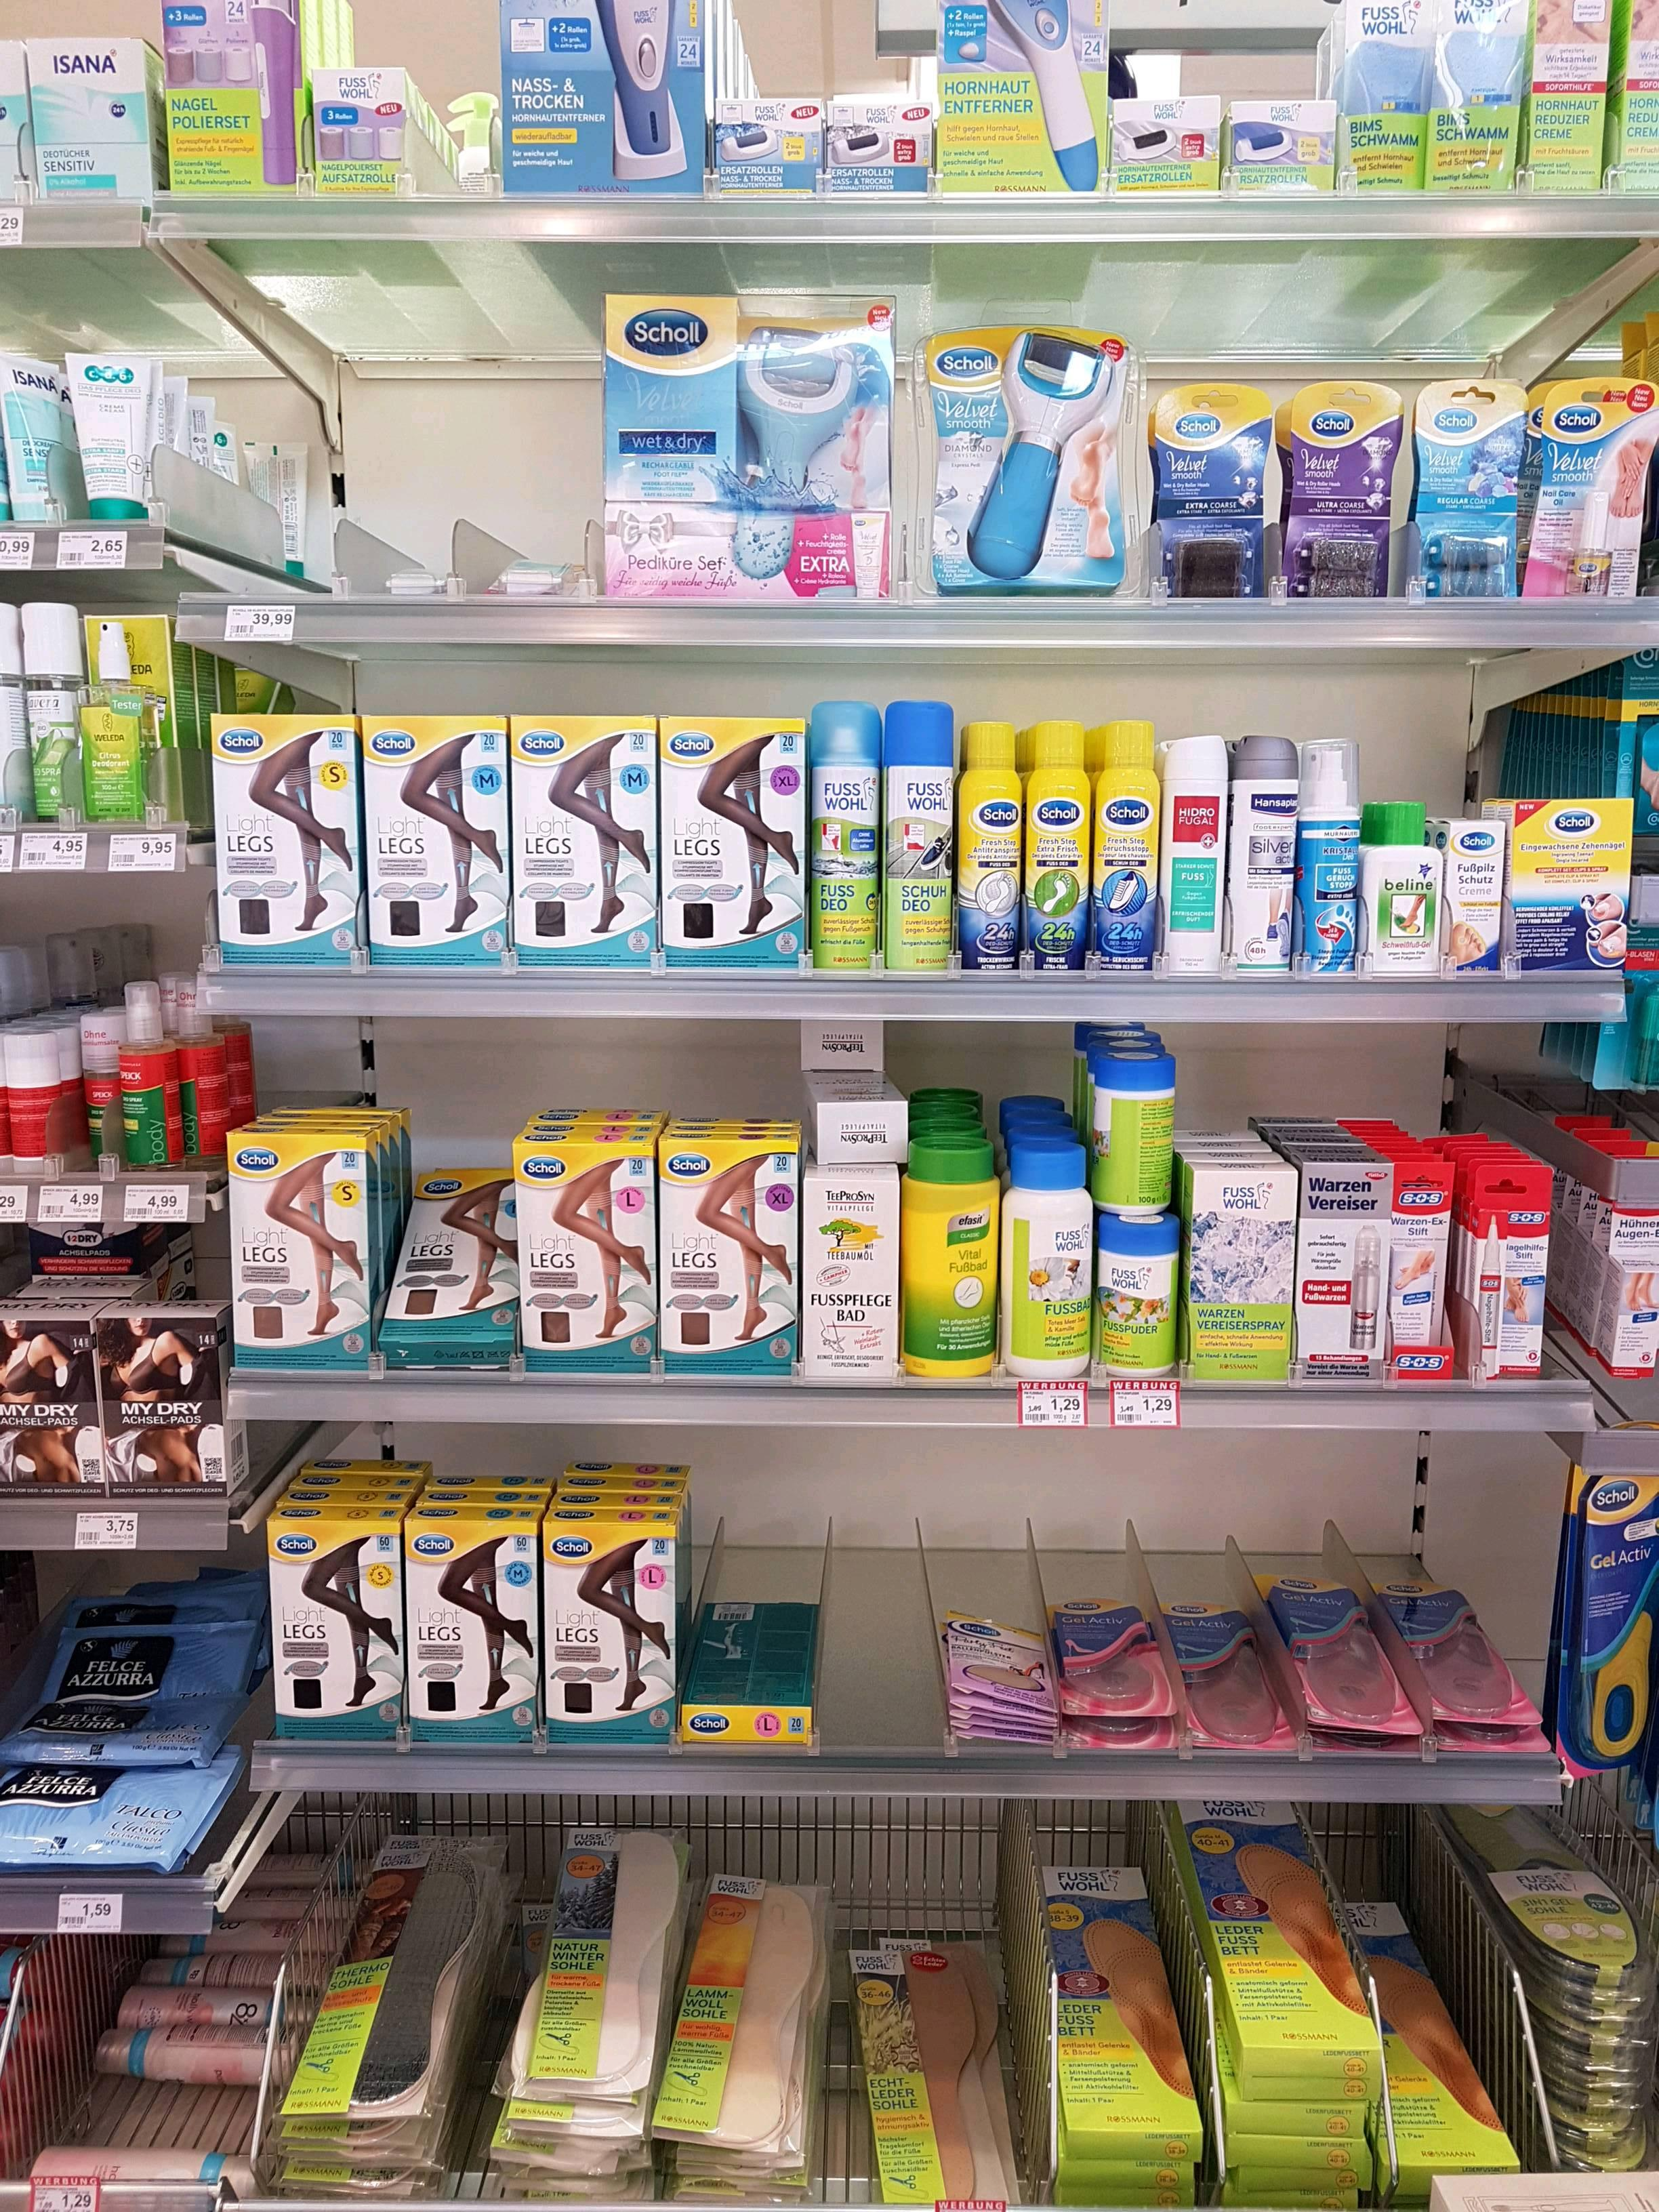misalignment: (685, 1580, 829, 1771), (396, 1151, 521, 1369), (809, 1021, 899, 1169)
